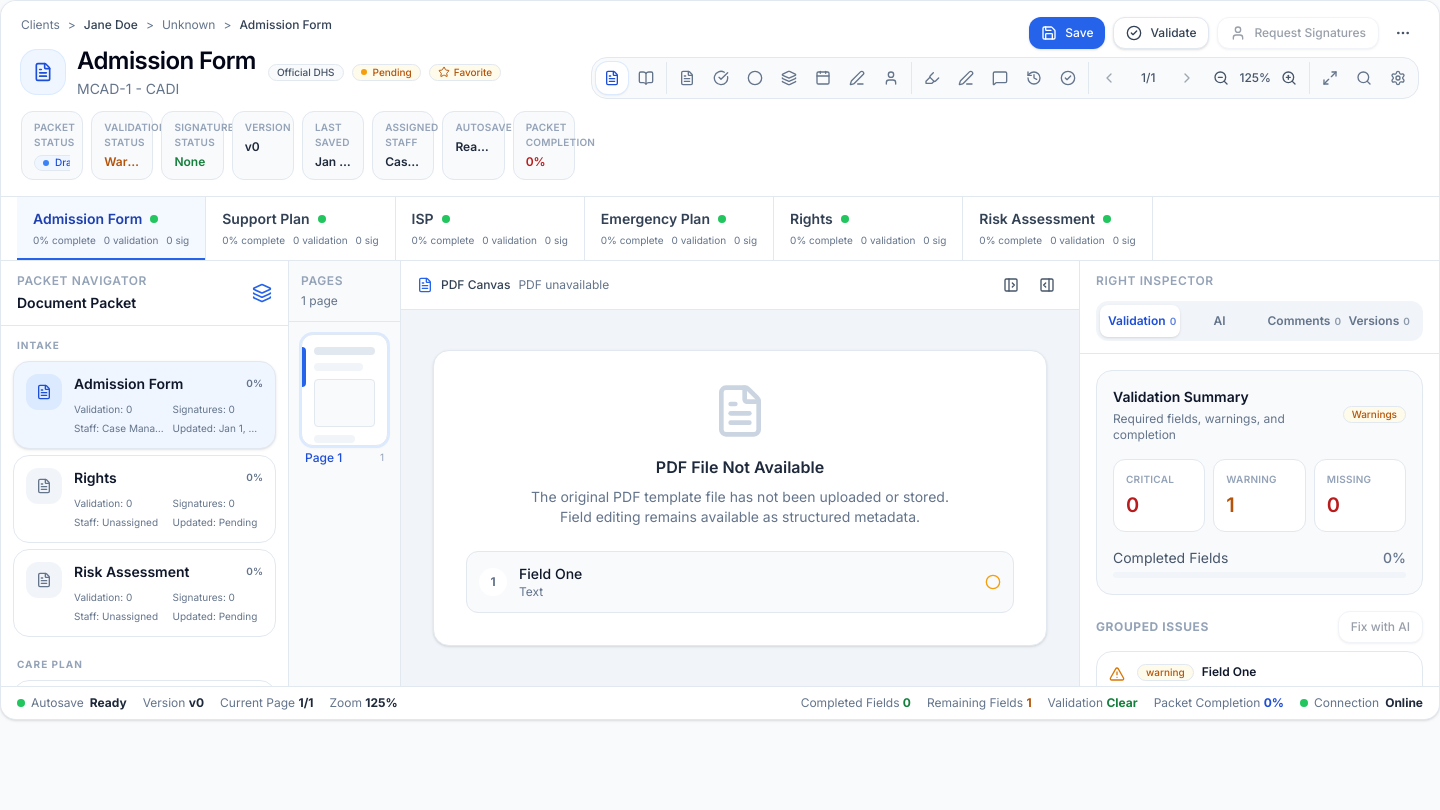
PDFEditorClient — save notice › shows a non-blocking notice when the save response has non-empty ignoredFieldIds
Expected: the text "Field One" below "PDF File Not Available" is shown, [519,565,582,582]
Click the button "Save" at coordinates (1067, 33), box [1029,17,1105,49]
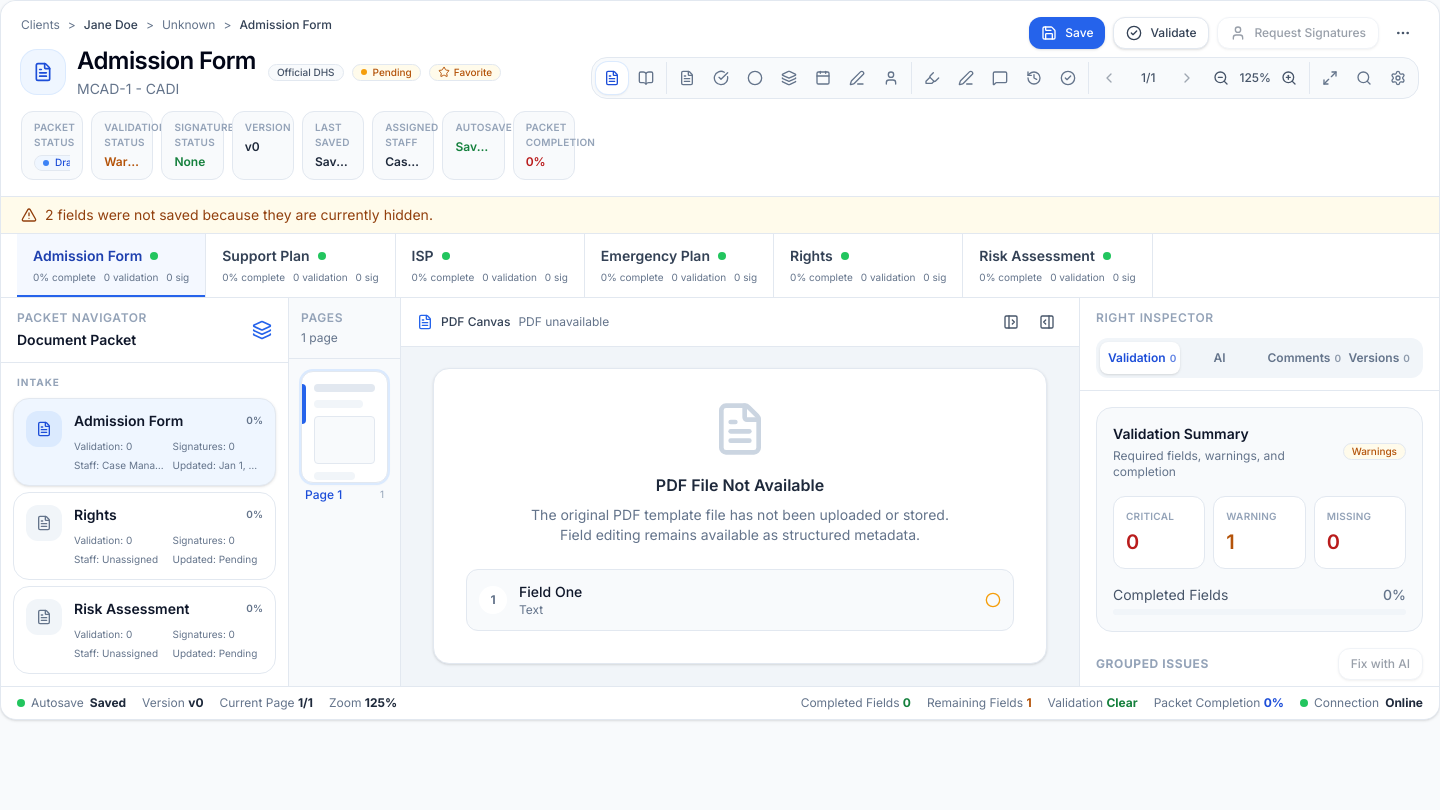
Expected: the text "2 fields were not saved because they are currently hidden." is shown, [45,205,433,225]
